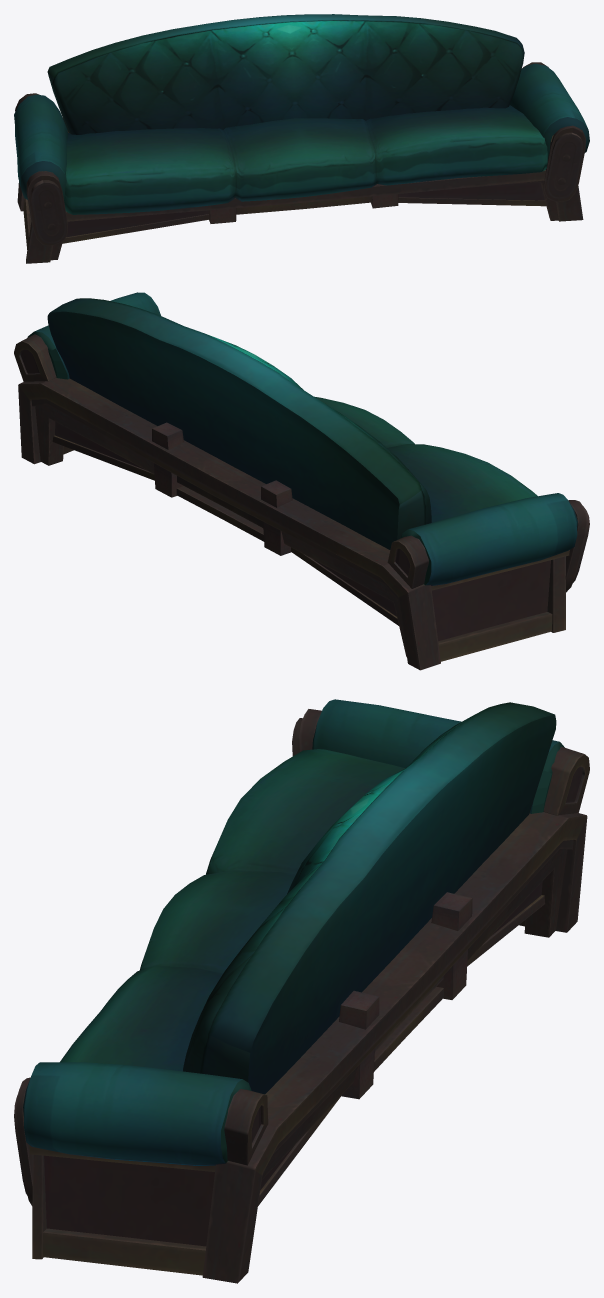
The model's file is Sofa.glb.
The picture shows the model from 3 angles, top to bottom: view 1: azimuth 30°, elevation 25°; view 2: azimuth 150°, elevation 25°; view 3: azimuth 270°, elevation 25°; orthographic projection. The views are drawn at different scales.
Visible parts, largest first — view 1: SkillObj_Nefer_Sofa_LOD0; view 2: SkillObj_Nefer_Sofa_LOD0; view 3: SkillObj_Nefer_Sofa_LOD0.
Boxes of the visible parts, bbox=[...] form: SkillObj_Nefer_Sofa_LOD0: bbox=[14, 14, 589, 263]; SkillObj_Nefer_Sofa_LOD0: bbox=[14, 292, 589, 670]; SkillObj_Nefer_Sofa_LOD0: bbox=[14, 699, 589, 1283].
Size of the model in its own units: 2.95 by 0.9653 by 1.71.
Materials: 1 (1 with a texture image).
